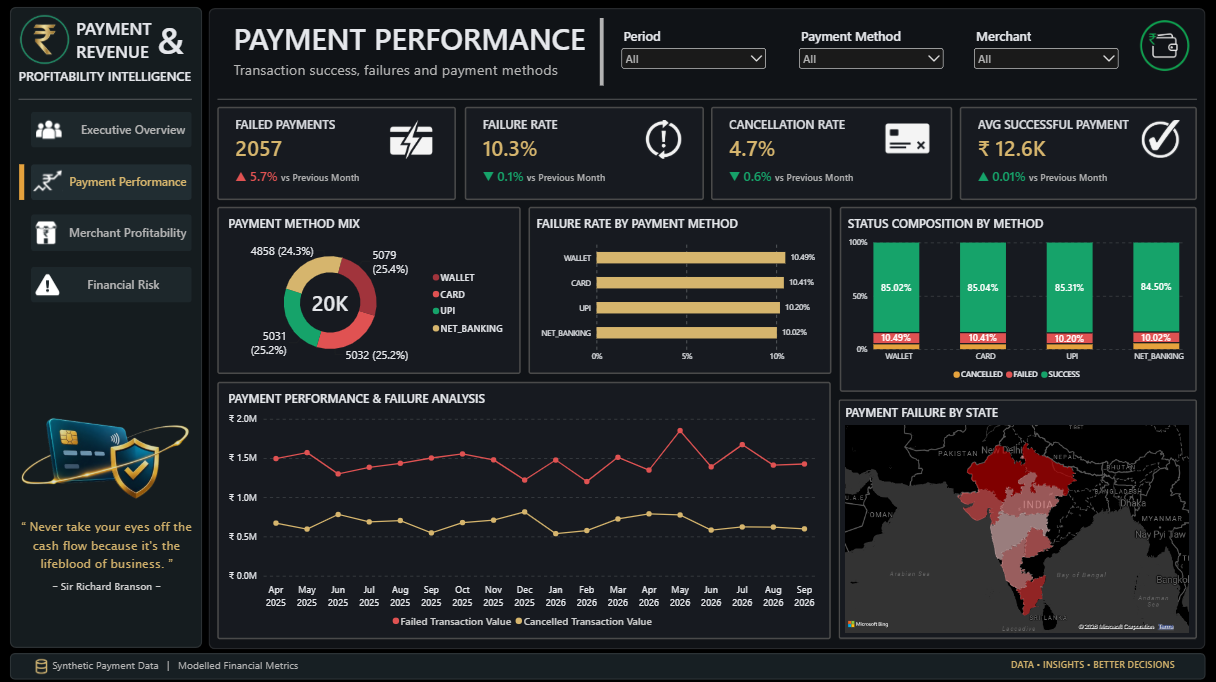

The page's visual inventory and layout, read from the dashboard file:
{"tool":"powerbi","page":{"name":"Payment Performance","canvas":[1920,1080],"ordinal":1},"visuals":[{"type":"image","box":[20.2,614.7,292.6,219],"z":0,"group":"g2"},{"type":"shape","box":[22,1028,1876,42],"z":0},{"type":"shape","box":[22,14,302,1006],"z":1000},{"type":"textbox","title":"“ Never take your eyes off the cash flow because it''s the lifeblood of business. ” ","box":[34.9,815.3,276.1,123.3],"z":1000,"group":"g2"},{"type":"shape","box":[333.7,14.8,1564,1006],"z":2000},{"type":"textbox","title":"PAYMENT PERFORMANCE","box":[372,32,558,96],"z":3000},{"type":"actionButton","box":[54,178,252,56],"z":4000},{"type":"actionButton","box":[54,260,252,56],"z":5000},{"type":"actionButton","box":[54,340,252,58],"z":6000},{"type":"actionButton","box":[54,422,252,56],"z":7000},{"type":"shape","box":[36,260,10,56],"z":10000},{"type":"group","id":"g1","title":"Group 1","box":[52,1034,1804,30],"z":12000},{"type":"textbox","title":"PAYMENT REVENUE","box":[126,30,122,66],"z":13000},{"type":"textbox","title":"&","box":[252.5,25,47.5,65],"z":14000},{"type":"textbox","title":"PROFITABILITY INTELLIGENCE","box":[36,108,280,34],"z":15000},{"type":"image","box":[32,26,90,78],"z":16000},{"type":"shape","box":[36,152,272,12],"z":17000},{"type":"shape","box":[348,152,1537,12],"z":18000},{"type":"image","box":[1786,34,94,82],"z":19000},{"type":"slicer","fields":{"Values":["Date.Month Year"]},"box":[976,46,236,80],"z":20000},{"type":"shape","box":[944,32,14,106],"z":21000},{"type":"slicer","fields":{"Values":["Transactions.payment_method"]},"box":[1254,46,236,80],"z":22000},{"type":"slicer","fields":{"Values":["Merchants.merchant_name"]},"box":[1530,46,236,80],"z":23000},{"type":"image","box":[52,1034,36,30],"z":23000,"group":"g1"},{"type":"cardVisual","fields":{"Data":["ALL_Measures.Failed Payments"]},"box":[348,170,374,146],"z":24000},{"type":"textbox","box":[88,1036,392,28],"z":24000,"group":"g1"},{"type":"cardVisual","fields":{"Data":["ALL_Measures.Cancellation Rate"]},"box":[1122,170,378,146],"z":25000},{"type":"textbox","box":[1592,1036,264,28],"z":25000,"group":"g1"},{"type":"cardVisual","fields":{"Data":["ALL_Measures.Failure Rate"]},"box":[735.9,170.5,375,146.4],"z":26000},{"type":"cardVisual","fields":{"Data":["ALL_Measures.Average Successful Payment"]},"box":[1512,170,372,146],"z":27000},{"type":"donutChart","title":"PAYMENT METHOD MIX","fields":{"Category":["Transactions.payment_method"],"Y":["CountNonNull(Transactions.transaction_id)"]},"box":[348,328,476,262],"z":28000},{"type":"clusteredBarChart","title":"FAILURE RATE BY PAYMENT METHOD","fields":{"Category":["Transactions.payment_method"],"Y":["ALL_Measures.Failure Rate"]},"box":[836,328,475,262],"z":29000},{"type":"hundredPercentStackedColumnChart","title":"STATUS COMPOSITION BY METHOD","fields":{"Category":["Transactions.payment_method"],"Series":["Transactions.status"],"Y":["CountNonNull(Transactions.transaction_id)"]},"box":[1324,328,560,290],"z":30000},{"type":"filledMap","title":"PAYMENT FAILURE BY STATE","fields":{"Category":["Merchants.state"]},"box":[1322,630,562,376],"z":31000},{"type":"lineChart","title":"PAYMENT PERFORMANCE & FAILURE ANALYSIS","fields":{"Category":["Date.Month Year"],"Y":["ALL_Measures.Failed Transaction Value","ALL_Measures.Cancelled Transaction Value"]},"box":[348,602,962,404],"z":32000},{"type":"group","id":"g2","title":"Group 2","box":[20.2,614.7,292.6,323.9],"z":32001}]}

Visuals, with their boxes in screenshot pixels (x1, y1, x2, y2), scaled from the page's 1920x1080 canvas onto the 1216x682 screenshot:
image: left=13, top=388, right=198, bottom=526
shape: left=14, top=649, right=1202, bottom=676
shape: left=14, top=9, right=205, bottom=644
"“ Never take your eyes off the cash flow because it''s the lifeblood of business. ” " textbox: left=22, top=515, right=197, bottom=593
shape: left=211, top=9, right=1202, bottom=645
"PAYMENT PERFORMANCE" textbox: left=236, top=20, right=589, bottom=81
actionButton: left=34, top=112, right=194, bottom=148
actionButton: left=34, top=164, right=194, bottom=200
actionButton: left=34, top=215, right=194, bottom=251
actionButton: left=34, top=266, right=194, bottom=302
shape: left=23, top=164, right=29, bottom=200
"Group 1" group: left=33, top=653, right=1175, bottom=672
"PAYMENT REVENUE" textbox: left=80, top=19, right=157, bottom=61
"&" textbox: left=160, top=16, right=190, bottom=57
"PROFITABILITY INTELLIGENCE" textbox: left=23, top=68, right=200, bottom=90
image: left=20, top=16, right=77, bottom=66
shape: left=23, top=96, right=195, bottom=104
shape: left=220, top=96, right=1194, bottom=104
image: left=1131, top=21, right=1191, bottom=73
slicer - Date.Month Year: left=618, top=29, right=768, bottom=80
shape: left=598, top=20, right=607, bottom=87
slicer - Transactions.payment_method: left=794, top=29, right=944, bottom=80
slicer - Merchants.merchant_name: left=969, top=29, right=1118, bottom=80
image: left=33, top=653, right=56, bottom=672
cardVisual - ALL_Measures.Failed Payments: left=220, top=107, right=457, bottom=200
textbox: left=56, top=654, right=304, bottom=672
cardVisual - ALL_Measures.Cancellation Rate: left=711, top=107, right=950, bottom=200
textbox: left=1008, top=654, right=1175, bottom=672
cardVisual - ALL_Measures.Failure Rate: left=466, top=108, right=704, bottom=200
cardVisual - ALL_Measures.Average Successful Payment: left=958, top=107, right=1193, bottom=200
"PAYMENT METHOD MIX" donutChart: left=220, top=207, right=522, bottom=373
"FAILURE RATE BY PAYMENT METHOD" clusteredBarChart: left=529, top=207, right=830, bottom=373
"STATUS COMPOSITION BY METHOD" hundredPercentStackedColumnChart: left=839, top=207, right=1193, bottom=390
"PAYMENT FAILURE BY STATE" filledMap: left=837, top=398, right=1193, bottom=635
"PAYMENT PERFORMANCE & FAILURE ANALYSIS" lineChart: left=220, top=380, right=830, bottom=635
"Group 2" group: left=13, top=388, right=198, bottom=593
